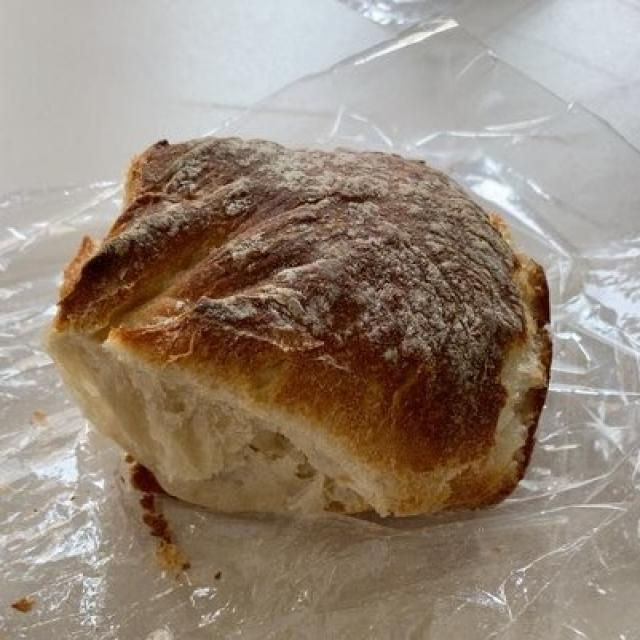bread: (53, 148, 548, 518)
